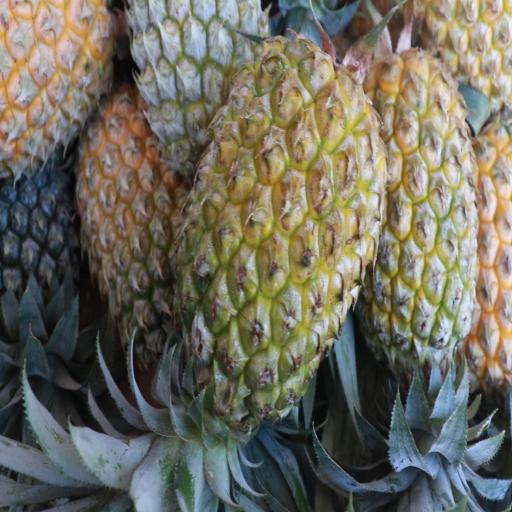------------------------------: (78, 91, 181, 346)
Pineapple - v8 v1: (174, 54, 377, 410), (368, 59, 478, 365), (0, 0, 115, 168)
